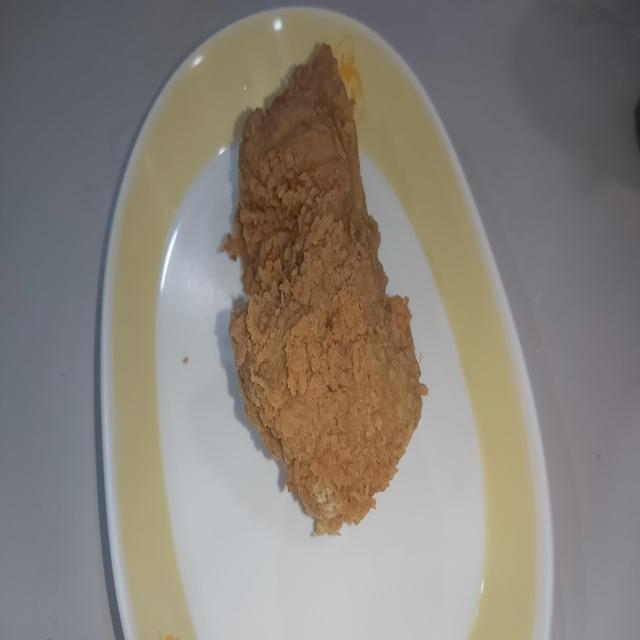Chicken -Fried Chicken-: (210, 47, 430, 576)
